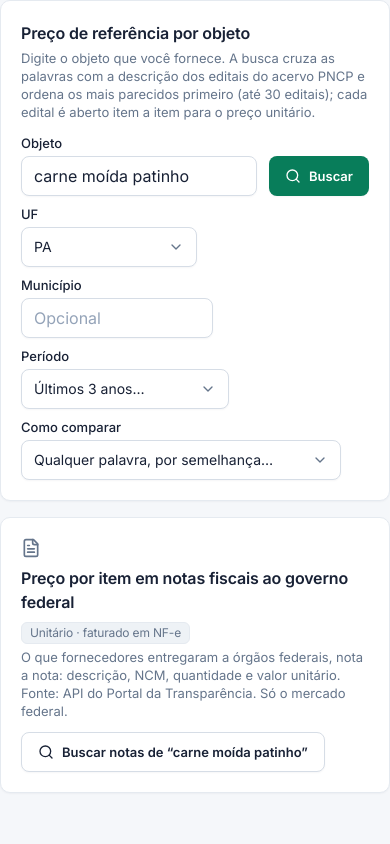
PrecoDeReferencia — a fonte única do preço por objeto › busca no acervo, mostra o global numa linha só, o unitário só homologado, e os itens embaixo do edital
Click the button "Buscar" at (319, 176), box [269,156,369,196]
(page scrolled)
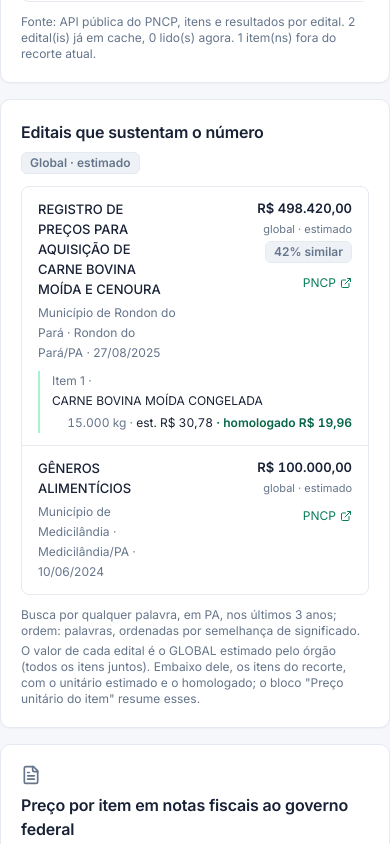
Expected: the text "· homologado R$ 19,96" is shown, [213,415,352,430]
